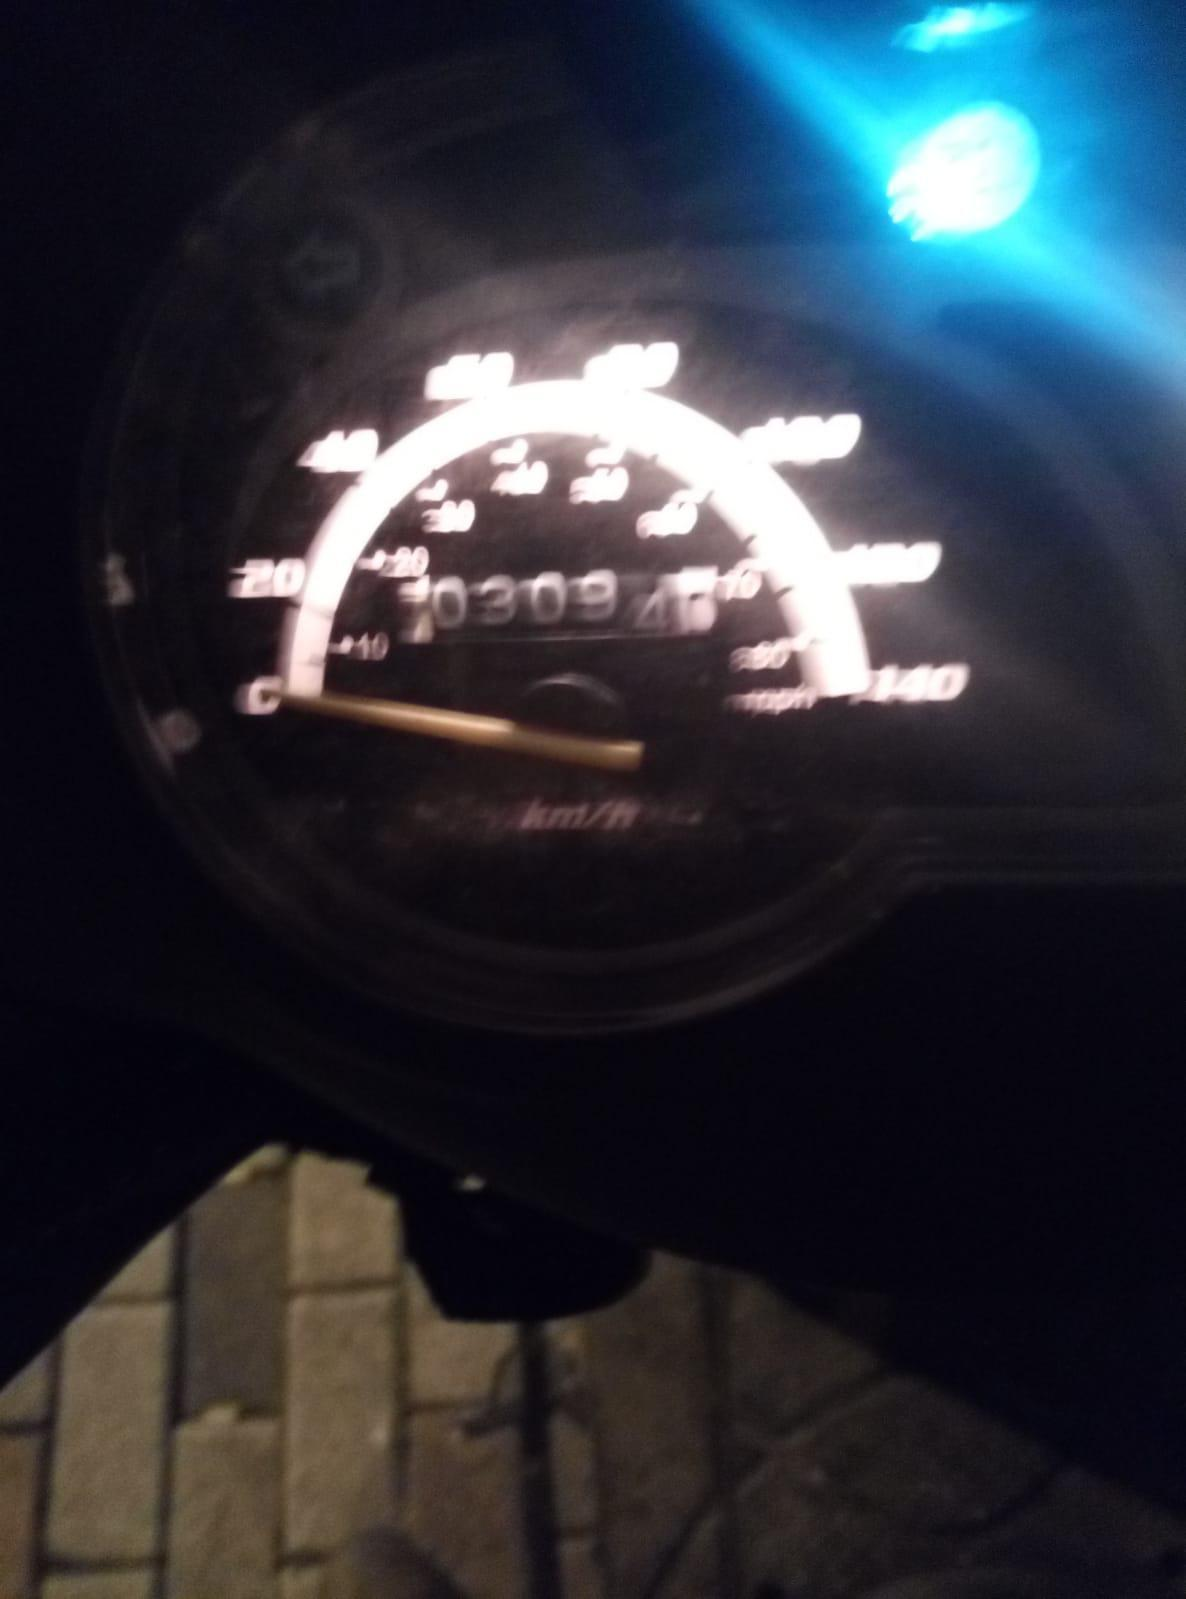0: (527, 569, 571, 625), (432, 577, 470, 629), (683, 587, 719, 639)
3: (481, 575, 519, 631)
4: (632, 585, 674, 638)
9: (577, 569, 623, 625)
odometer: (389, 567, 720, 650)
